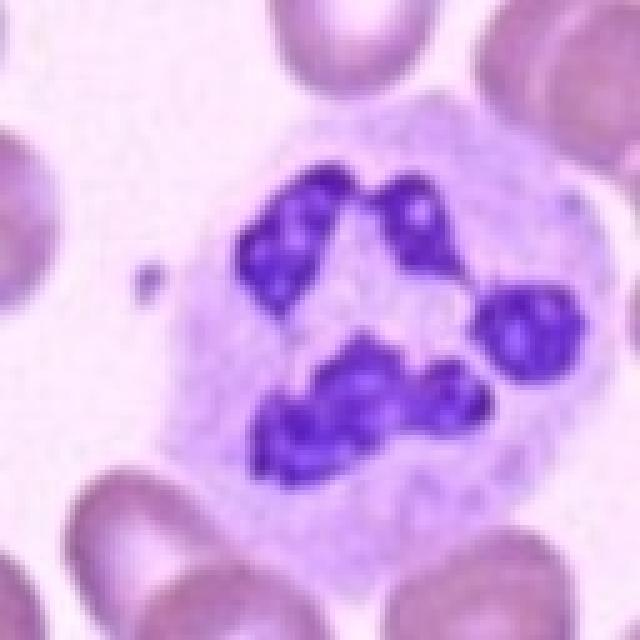neutro: (99, 64, 563, 486)
